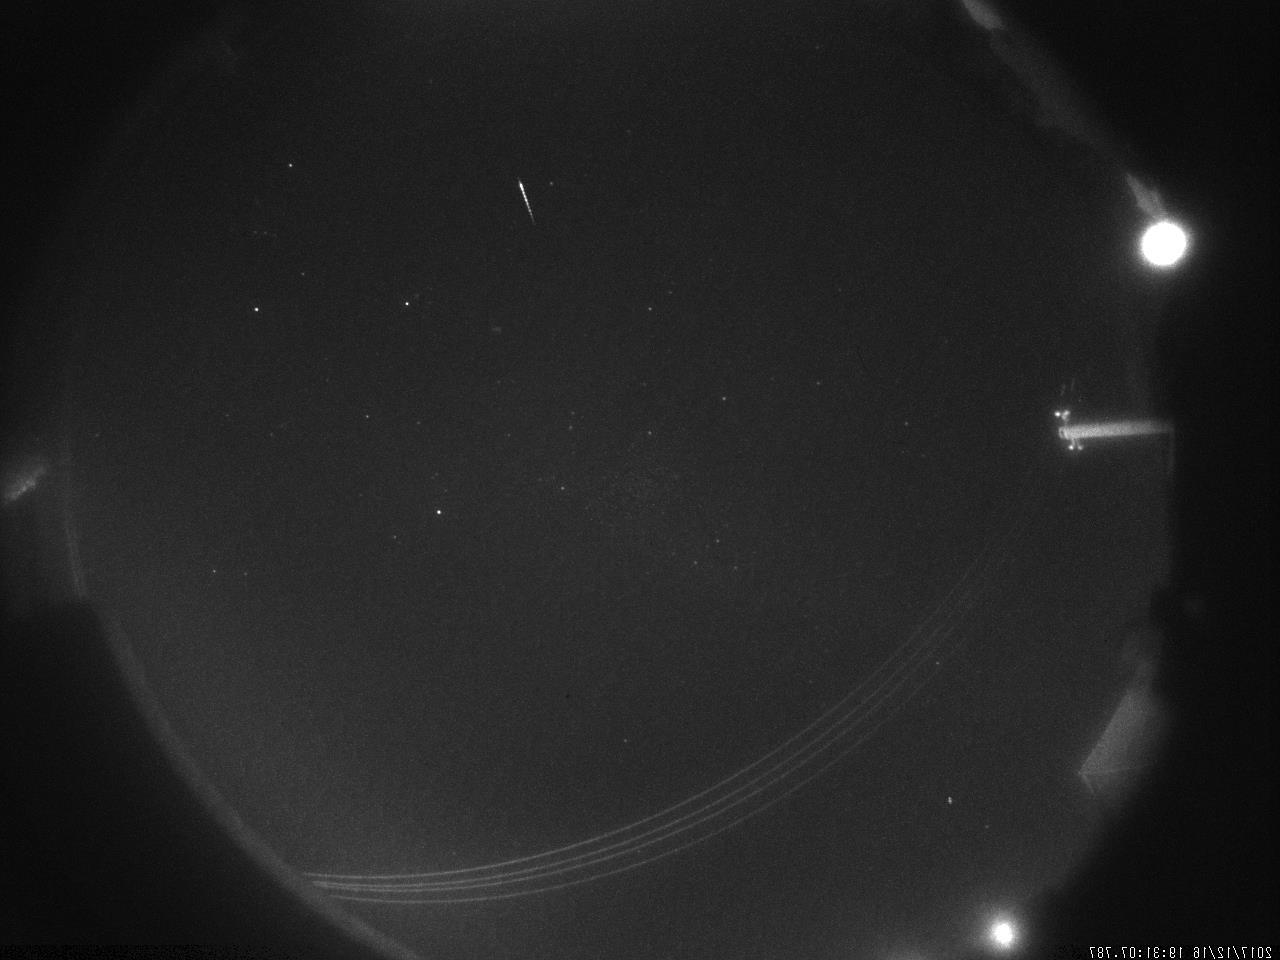meteor: (506, 171, 545, 234)
